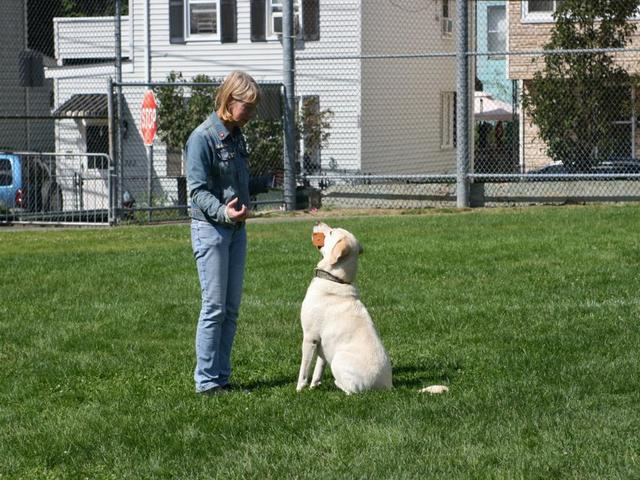dog: (284, 218, 398, 394)
